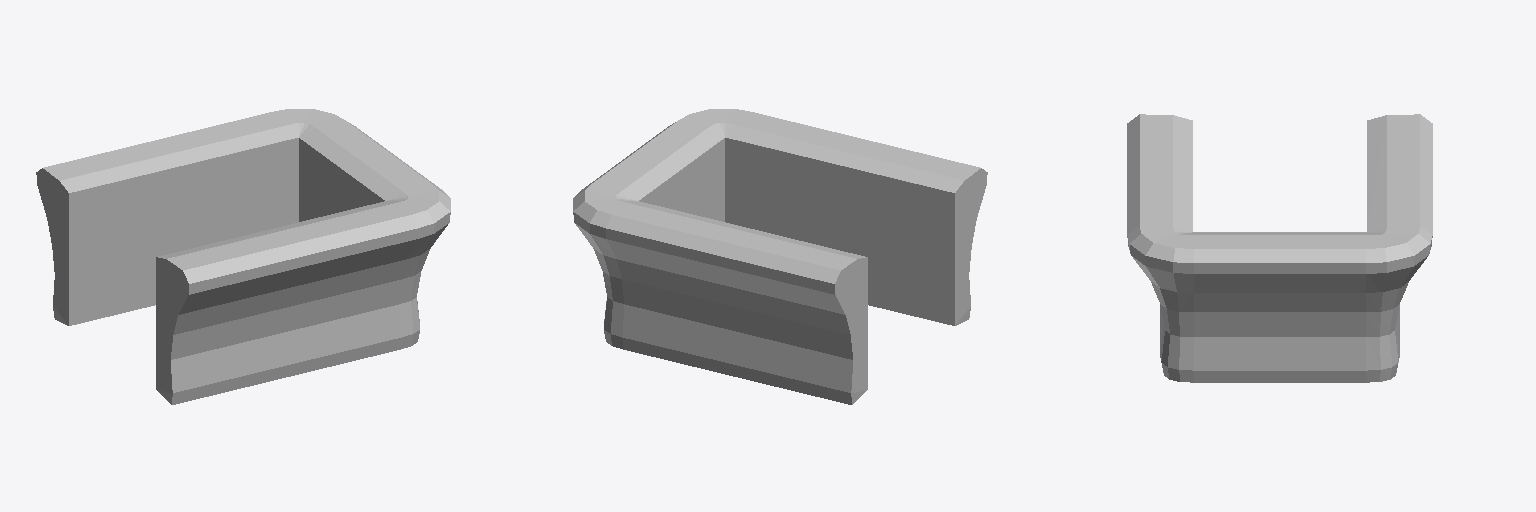
The model's file is OutwardCurvedWall_Upper_3_edges.obj.
3 views of the same model, side by side, from view 1: azimuth 30°, elevation 25°; view 2: azimuth 150°, elevation 25°; view 3: azimuth 270°, elevation 25° (orthographic).
Parts seen in each view (by area): view 1: OutwardCurvedWall_Upper_3_edges export_grp; view 2: OutwardCurvedWall_Upper_3_edges export_grp; view 3: OutwardCurvedWall_Upper_3_edges export_grp.
Part boxes in pixels (left/top/right/bottom): OutwardCurvedWall_Upper_3_edges export_grp: left=36, top=109, right=450, bottom=404; OutwardCurvedWall_Upper_3_edges export_grp: left=573, top=109, right=987, bottom=404; OutwardCurvedWall_Upper_3_edges export_grp: left=1127, top=114, right=1432, bottom=382.
Size of the model in its own units: 7.42 by 3.55 by 6.85.